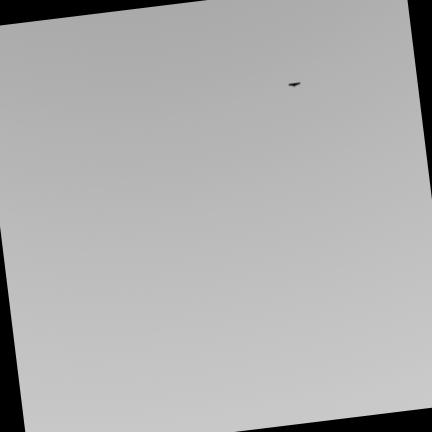Shahed: (289, 82, 300, 86)
